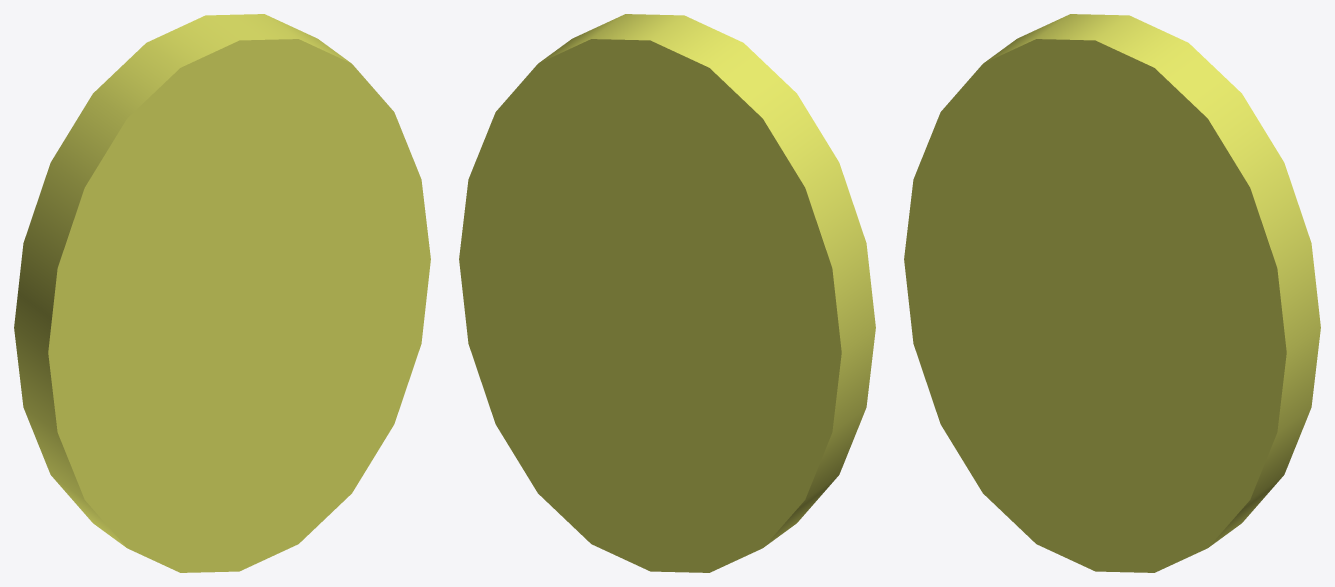
Rendered from Coin.fbx.
3 renders of one model, left to right at view 1: azimuth 30°, elevation 25°; view 2: azimuth 150°, elevation 25°; view 3: azimuth 330°, elevation 25°, orthographic.
Parts seen in each view (by area): view 1: pCylinder1; view 2: pCylinder1; view 3: pCylinder1.
Boxes of the visible parts, x1=… form: pCylinder1: x1=14, y1=14, x2=430, y2=572; pCylinder1: x1=459, y1=14, x2=875, y2=572; pCylinder1: x1=904, y1=14, x2=1320, y2=572.
Bounding box in the file's own units: 33.52 × 44.45 × 5.18.
